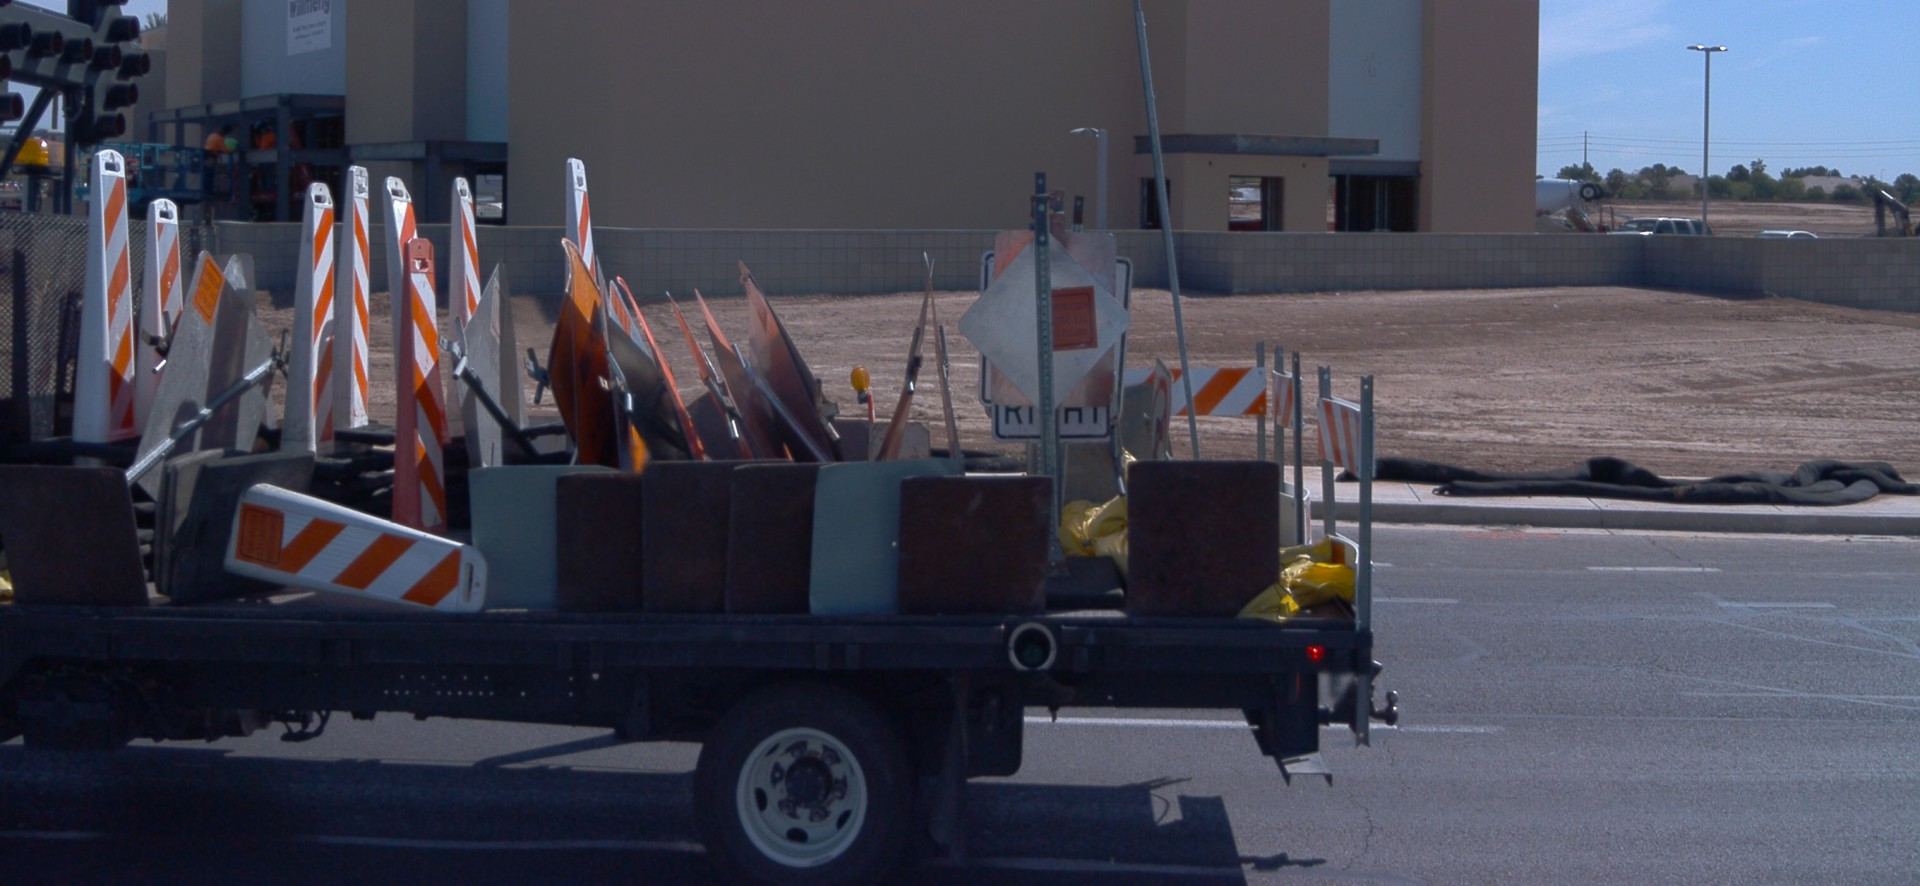TYPE_PEDESTRIAN: (1565, 214, 1573, 229)
TYPE_VEHICLE: (2, 0, 1411, 880), (1532, 169, 1619, 225), (1872, 180, 1920, 239), (1602, 217, 1714, 237), (1562, 201, 1616, 235), (1758, 229, 1822, 239), (1918, 226, 1920, 240)
